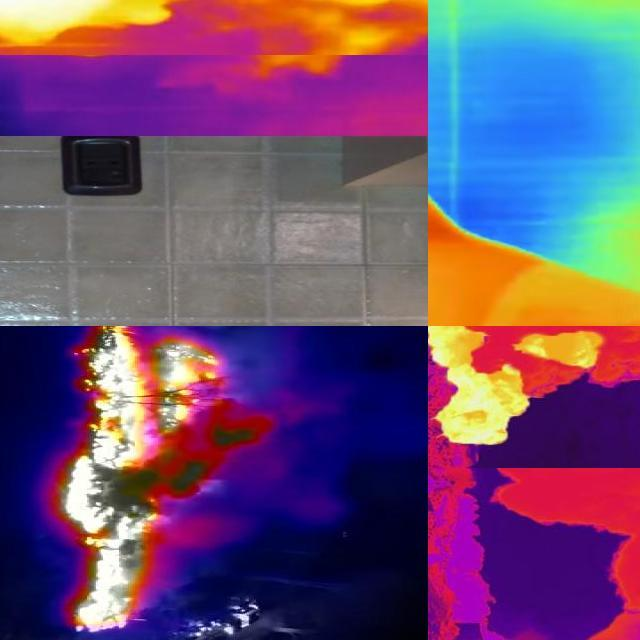fire: (54, 327, 264, 631), (429, 327, 640, 469), (431, 326, 606, 451), (1, 1, 182, 46)
